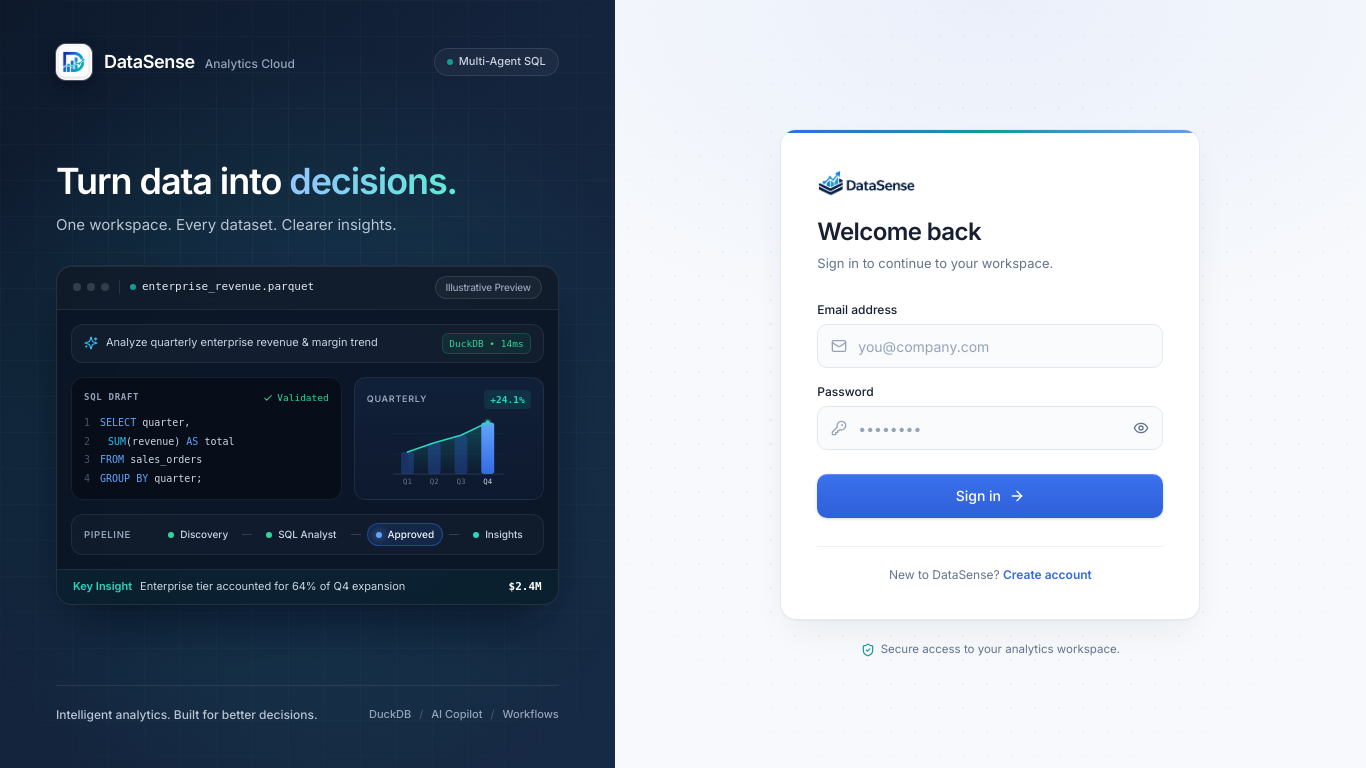
it: LoginPage › validates empty inputs on submit
Step 1. Click the button "Sign in" → (990,496), box [817,474,1163,518]
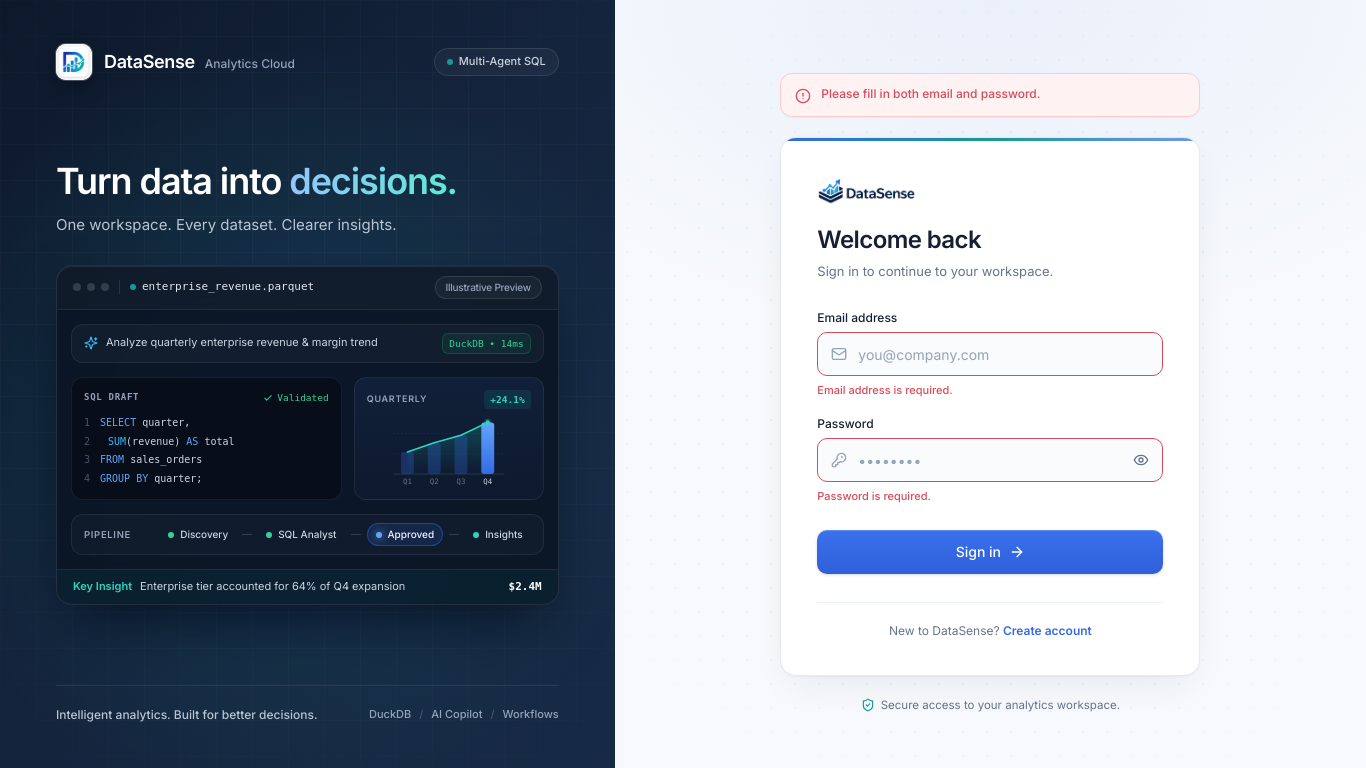
Check: the text "Please fill in both email and password." is shown, box [821,86,1040,103]
